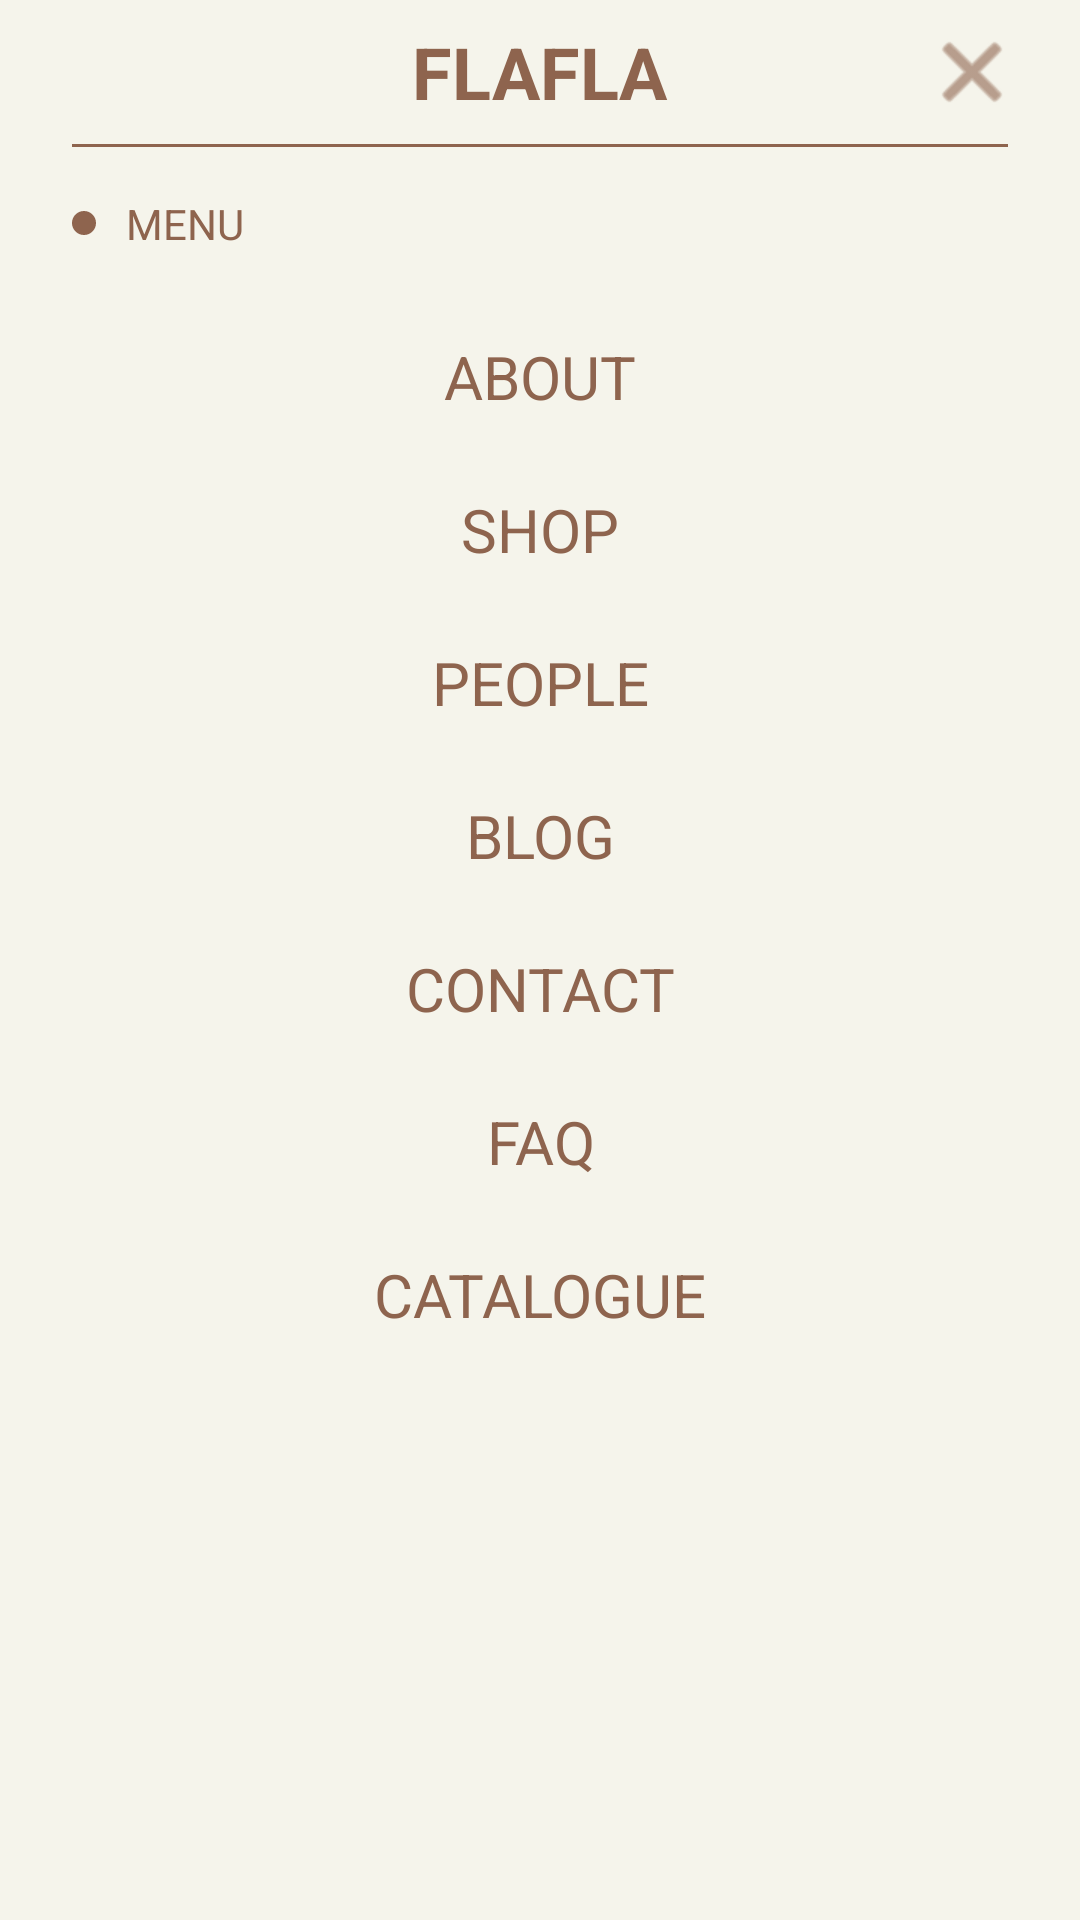

Where to tap for icons on this 1080*1920 app screen, as [x,y]:
Close: [972,72]
